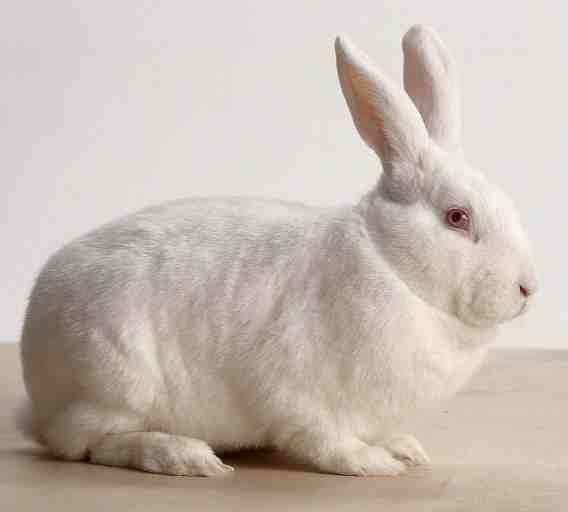bunny: (14, 11, 554, 490)
